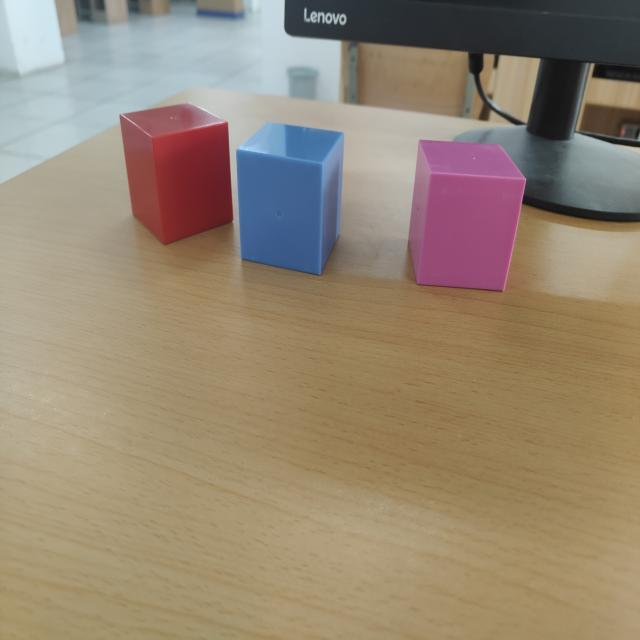blue: (237, 123, 345, 277)
pink: (408, 141, 526, 293)
red: (120, 106, 236, 247)
